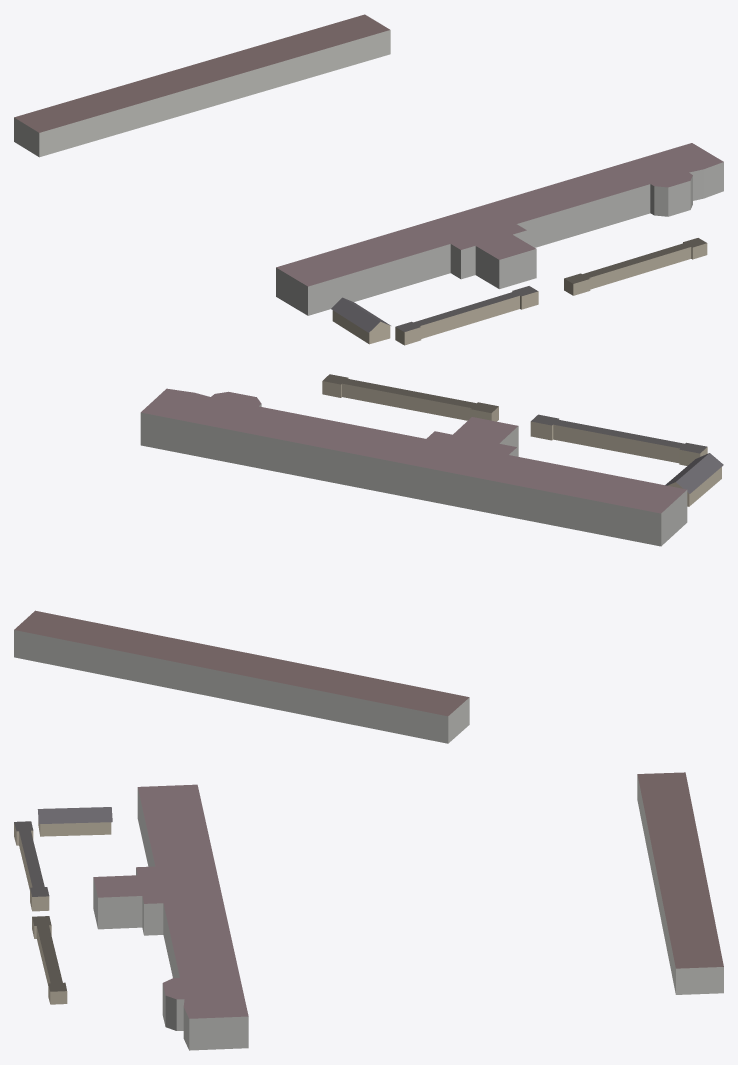
3 views of the same model, one above another, from view 1: azimuth 30°, elevation 25°; view 2: azimuth 150°, elevation 25°; view 3: azimuth 270°, elevation 25° (orthographic). The views are drawn at different scales.
Parts seen in each view (by area): view 1: tuile; view 2: tuile; view 3: tuile.
Part boxes in pixels (x1,y1,x2,y2): tuile: (14, 14, 723, 345); tuile: (14, 374, 723, 743); tuile: (14, 772, 723, 1050).
Size of the model in its own units: 142 by 8.71 by 168.
